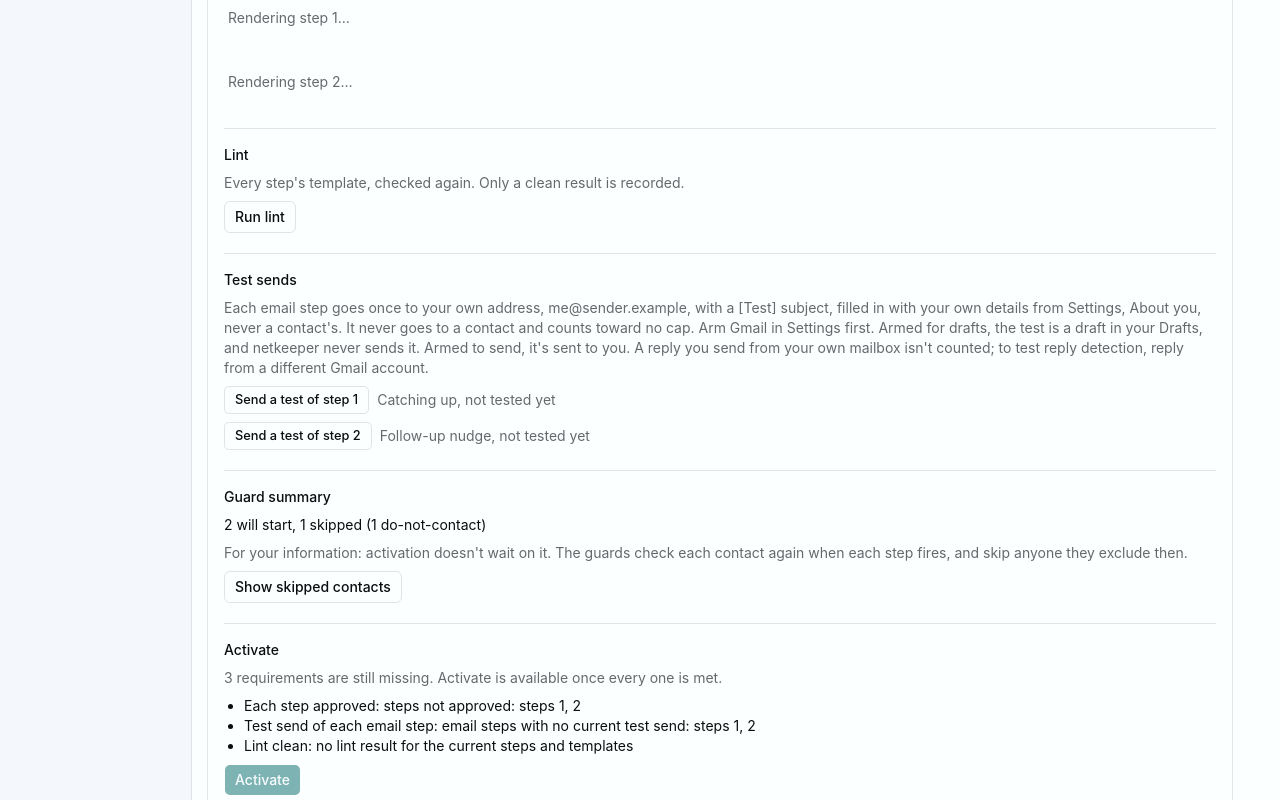
Test: review flow › says a test goes only to your own mailbox, and shows why one was refused
The width and height of the screenshot is (1280, 800).
(page scrolled)
Expected: the text "your own address, me@sender.example" is shown, [224,298,1216,378]
Expected: the text "reply from a different Gmail account" is shown, [224,299,1203,376]
Click the button "Send a test of step 1" at coordinates (297, 400), box [224,386,369,414]
(page scrolled)
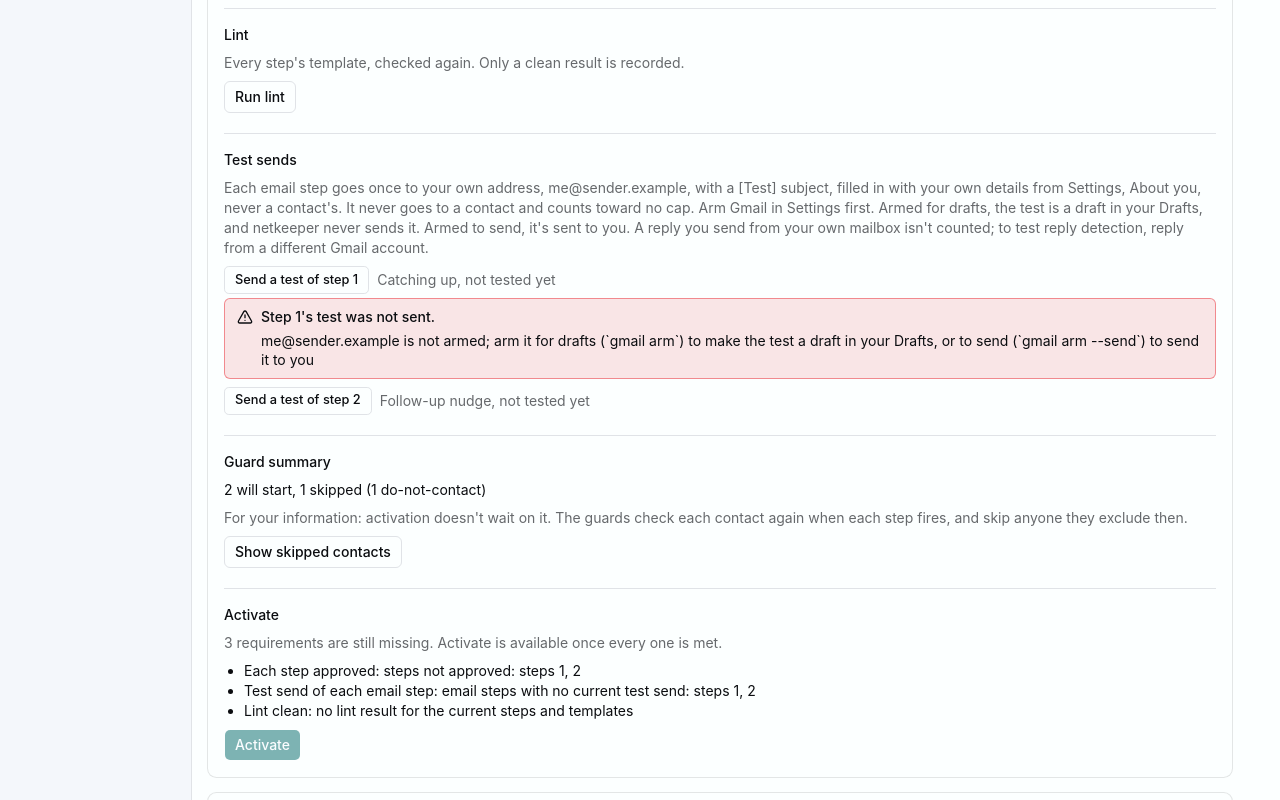
Expected: the message shows "Step 1's test was not sent.", [261,308,435,325]
Expected: the message shows "is not armed", [261,332,1199,368]
Click the button "Send a test of step 2" at coordinates (298, 400), box [224,386,372,414]
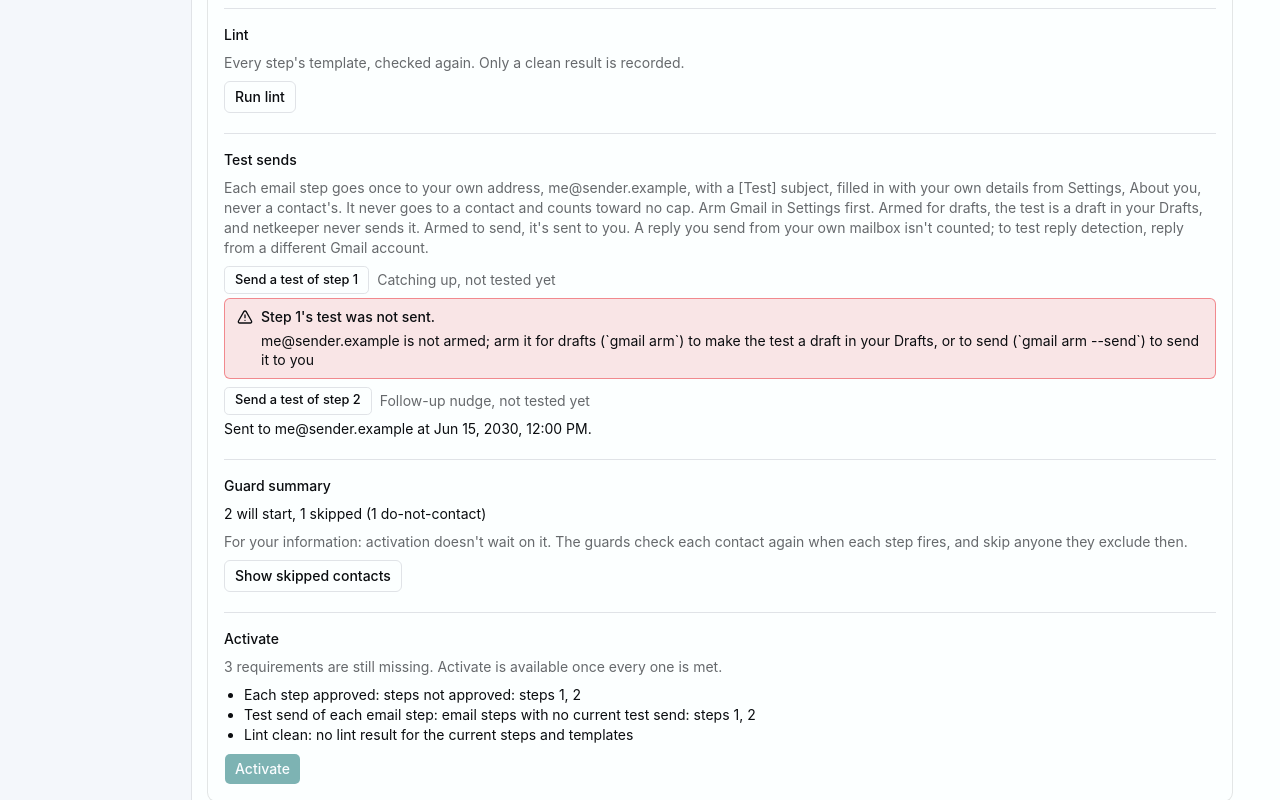
Expected: the text "Sent to me@sender.example at Jun 15, 2030, 12:00 PM." is shown, [224,420,592,436]
